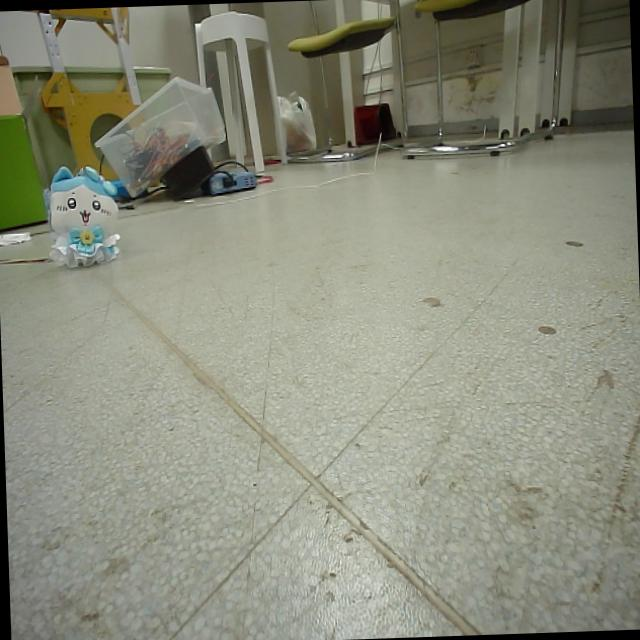xiaoba: (38, 160, 126, 275)
